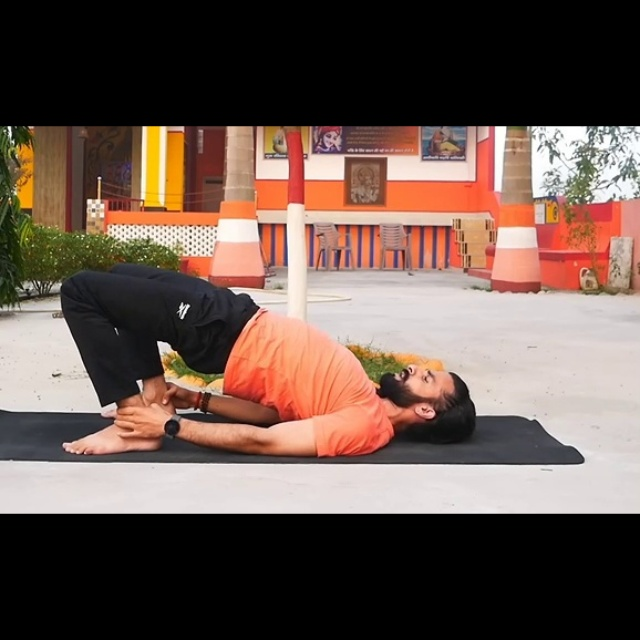Bridge_Pose: (42, 246, 480, 471)
